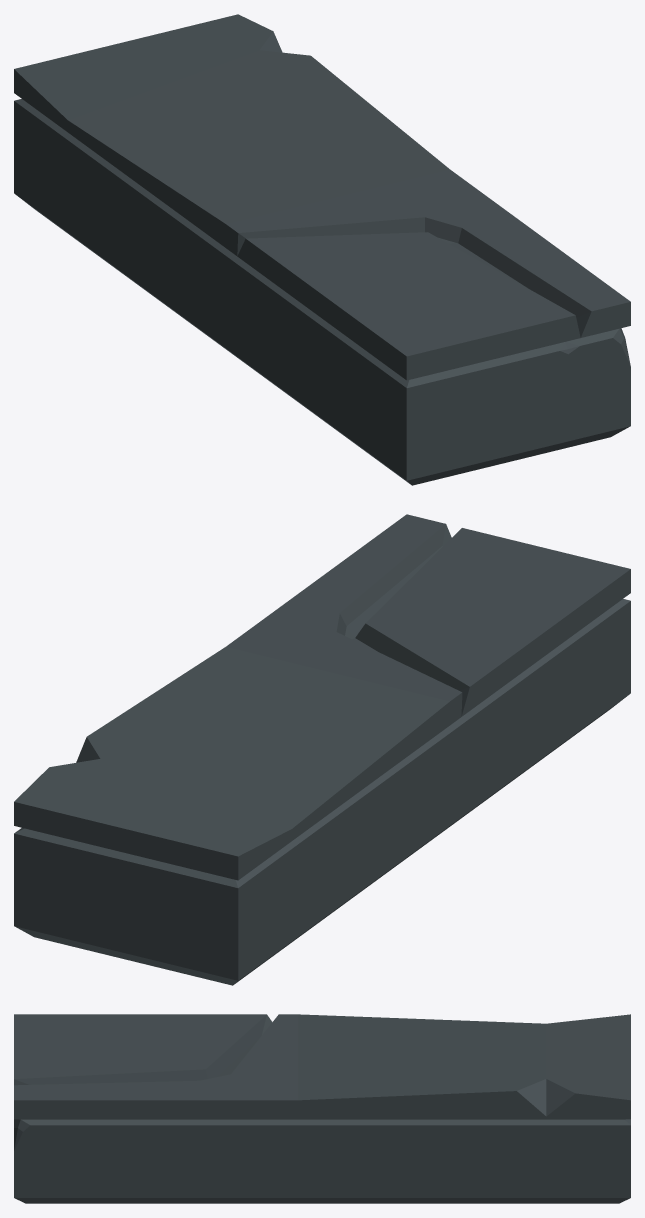
File: coffin_stone_2.fbx
The picture shows the model from 3 angles, top to bottom: view 1: azimuth 30°, elevation 25°; view 2: azimuth 150°, elevation 25°; view 3: azimuth 270°, elevation 25°; orthographic projection. The views are drawn at different scales.
Parts seen in each view (by area): view 1: coffin_stone2; view 2: coffin_stone2; view 3: coffin_stone2.
Part boxes in pixels (<box>): coffin_stone2: <box>14,14,630,485</box>; coffin_stone2: <box>14,514,630,985</box>; coffin_stone2: <box>14,1014,630,1203</box>.
Bounding box in the file's own units: 0.5109 × 0.3256 × 1.55.
